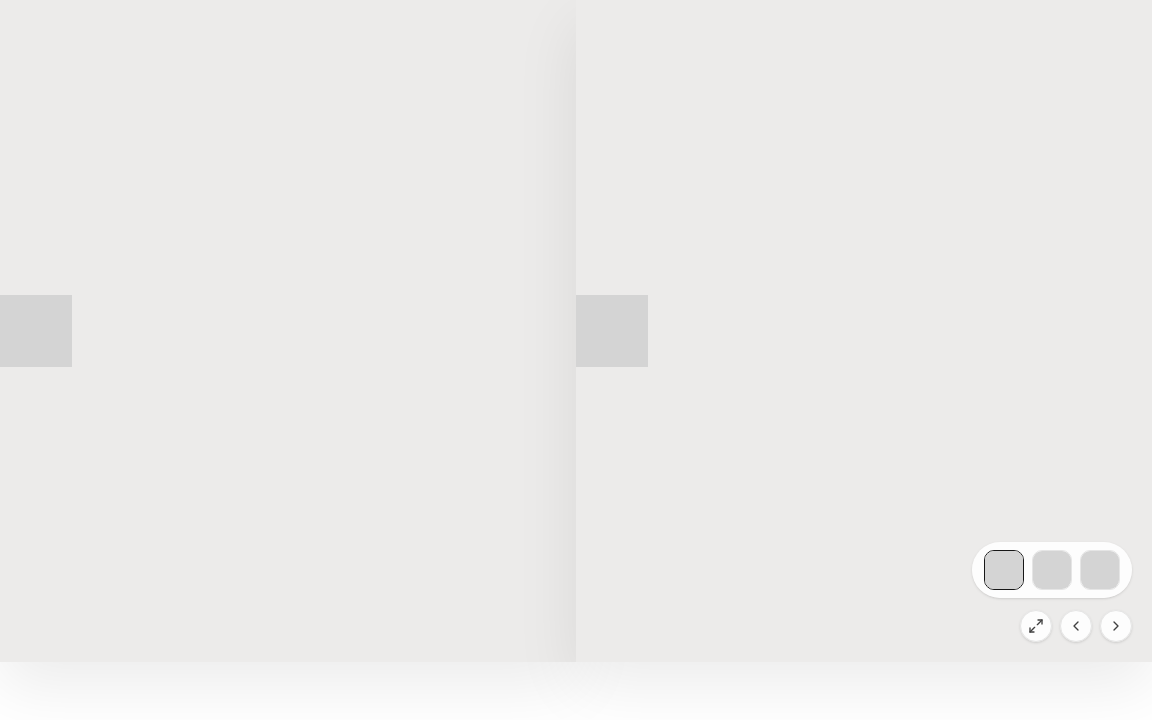
Test: ProductGallery › hero images › close with Escape and keep the chosen image in the gallery
The width and height of the screenshot is (1152, 720).
Click the 2nd button named "Ver imagen en pantalla completa". click: (864, 331)
box: [576, 0, 1151, 662]
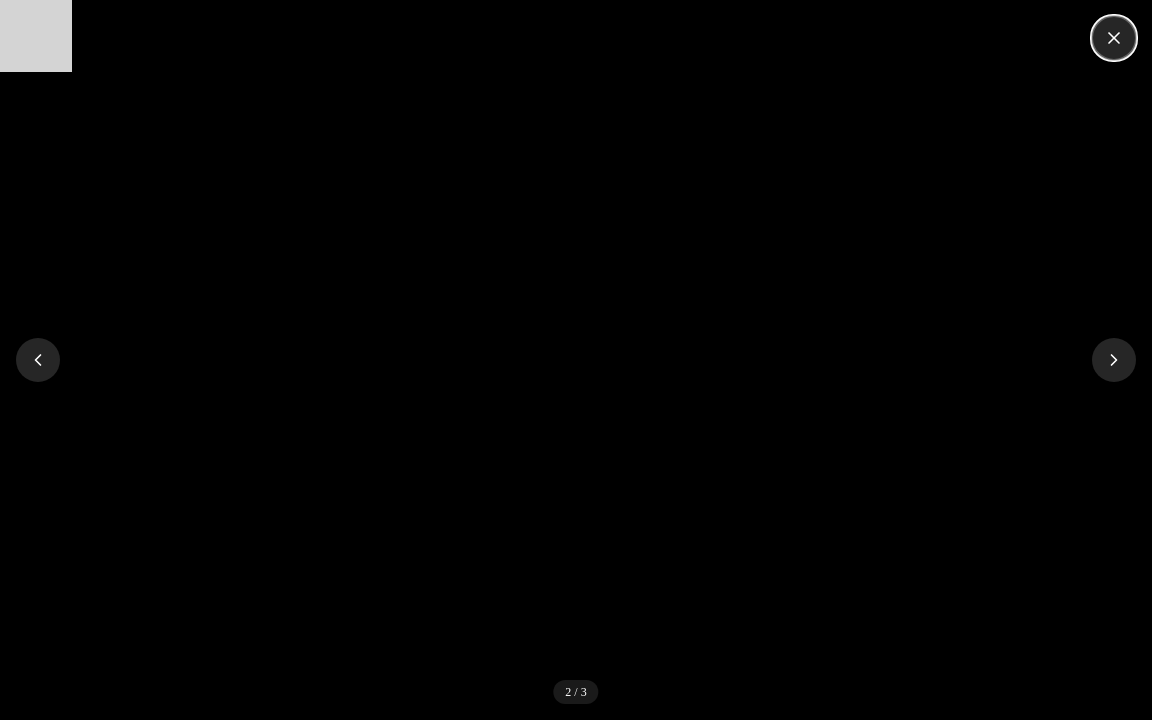
Press Escape
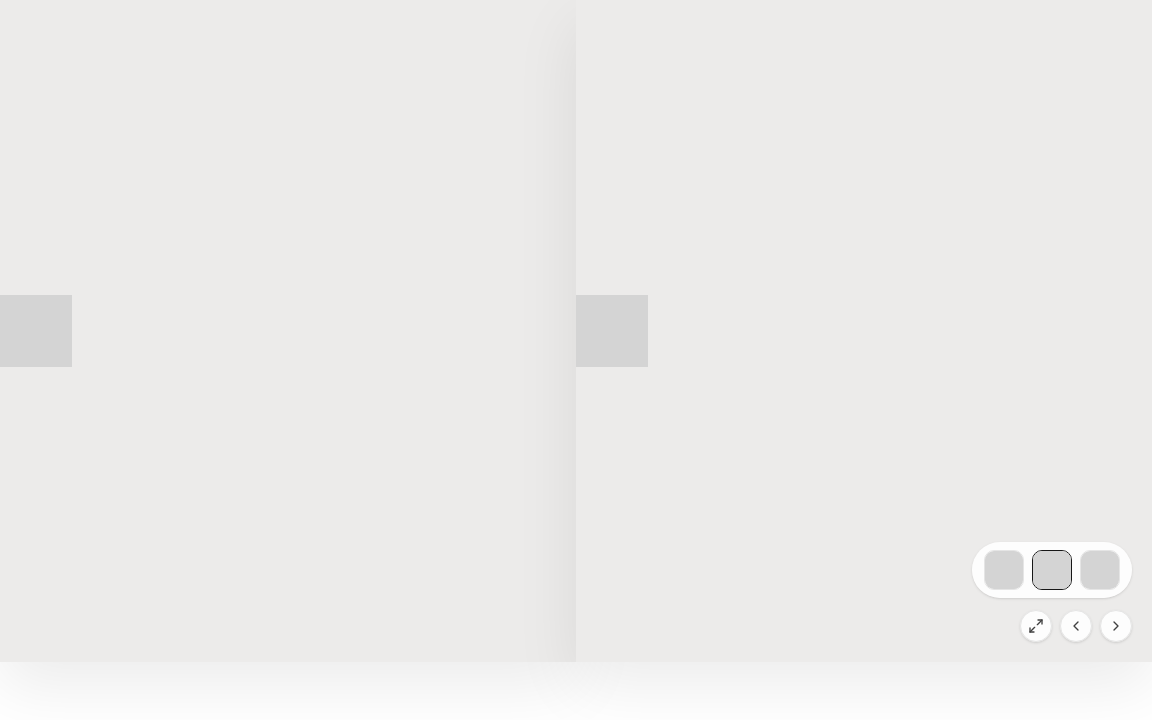
Result: the dialog is gone
